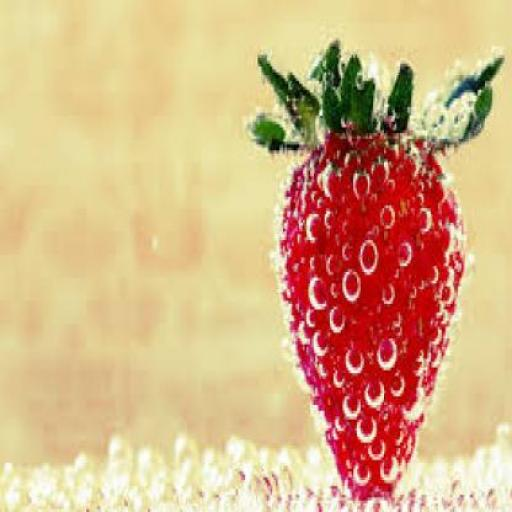biodegradable: (276, 127, 464, 498), (243, 34, 502, 146)
